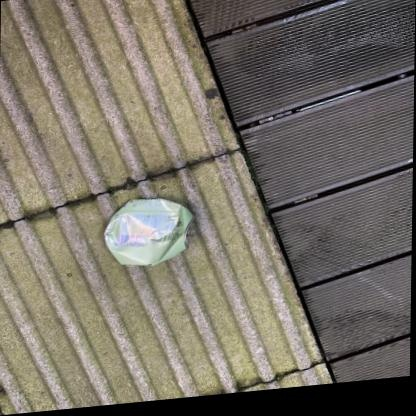trash: (104, 198, 191, 264)
